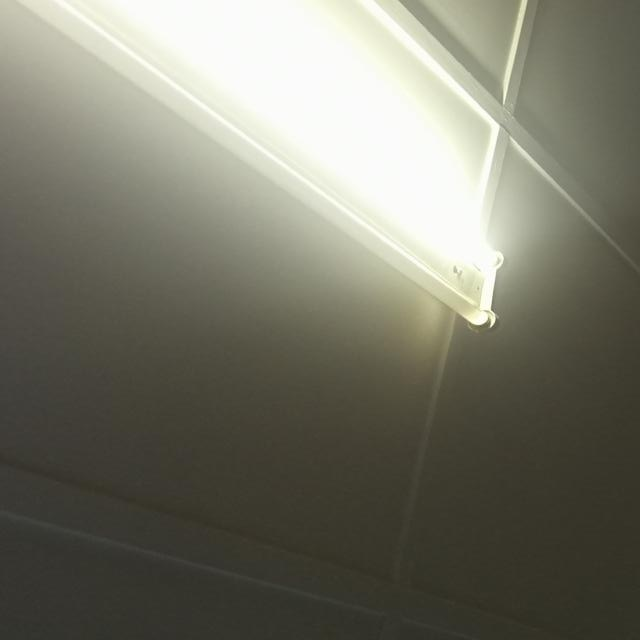fluorescent tube: (0, 0, 529, 347)
